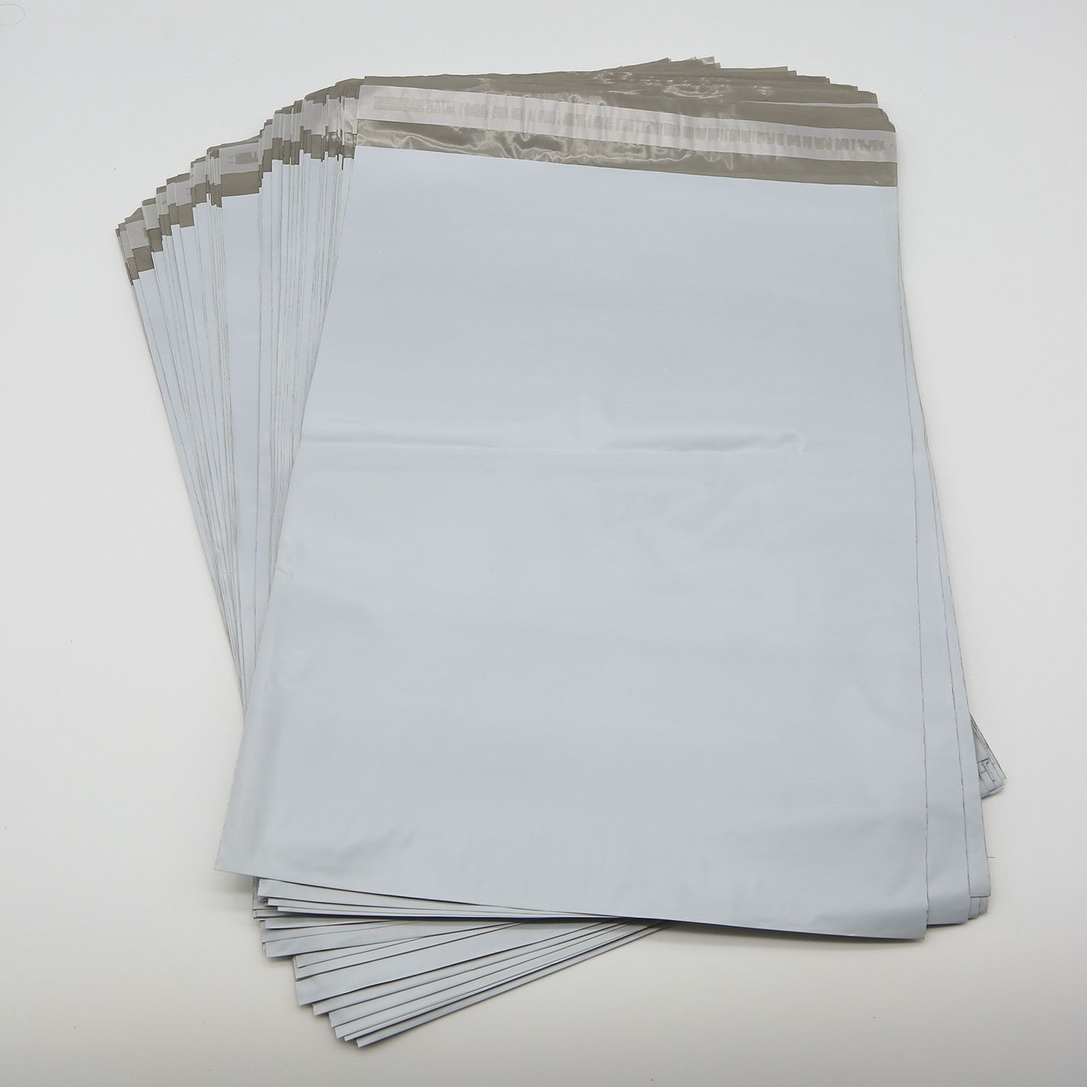塑料袋: (118, 59, 1004, 1046)
